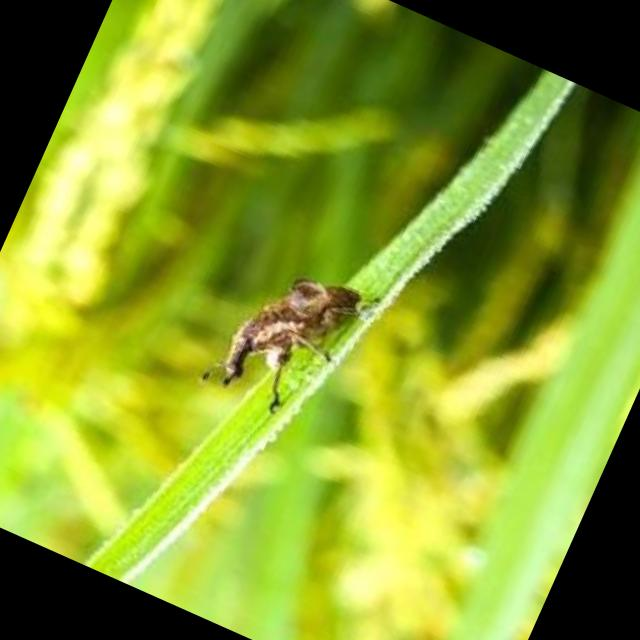rice-bug: (198, 242, 386, 439)
